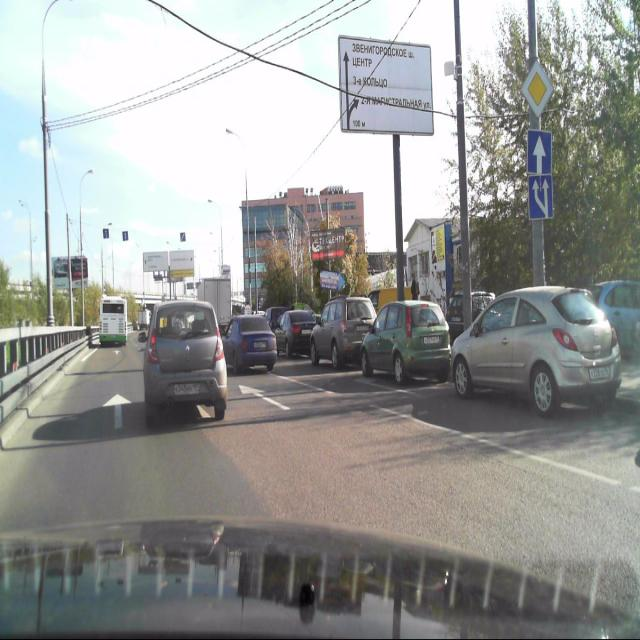road sign: (520, 60, 554, 118), (526, 172, 554, 220), (524, 127, 552, 173)
